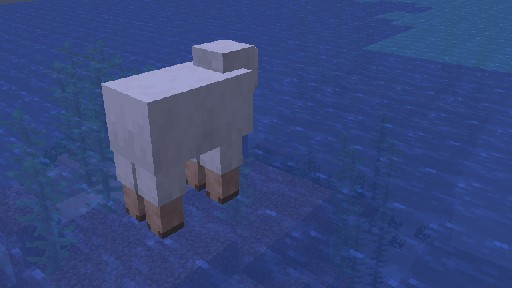sheep: (100, 38, 257, 239)
